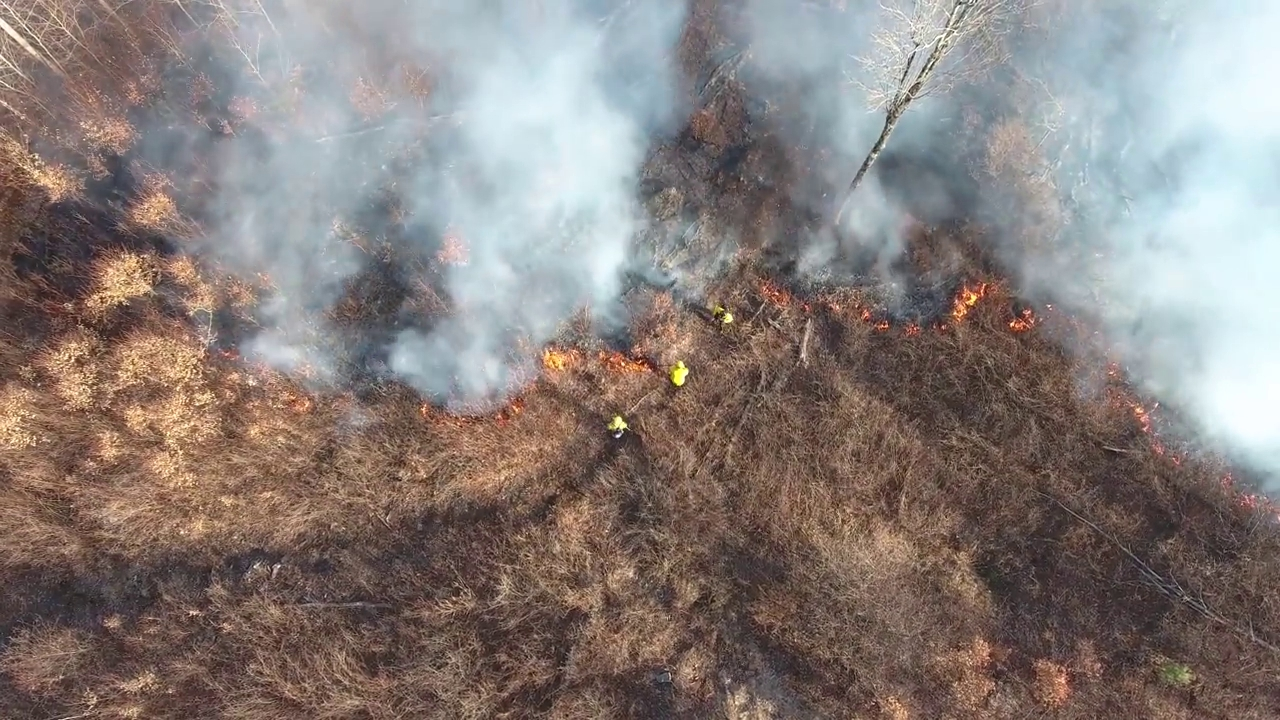forest_fire: (857, 281, 998, 336), (759, 281, 816, 316), (1117, 391, 1158, 433), (542, 347, 586, 371), (599, 352, 648, 371), (1007, 307, 1039, 333), (823, 303, 854, 312)
